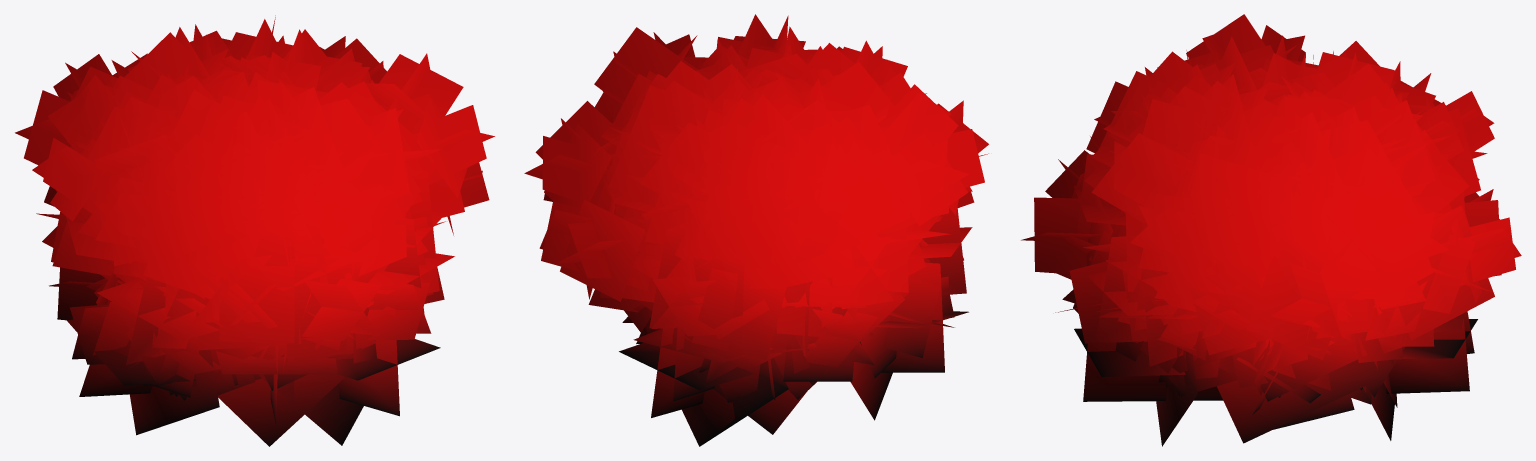
File: bush.glb
3 renders of one model, left to right at view 1: azimuth 30°, elevation 25°; view 2: azimuth 150°, elevation 25°; view 3: azimuth 270°, elevation 25°, orthographic. The views are drawn at different scales.
Parts seen in each view (by area): view 1: Bush_Common; view 2: Bush_Common; view 3: Bush_Common.
Boxes of the visible parts, left/top/right/bottom form: Bush_Common: left=15, top=15, right=494, bottom=446; Bush_Common: left=524, top=14, right=988, bottom=446; Bush_Common: left=1021, top=14, right=1521, bottom=446.
Size of the model in its own units: 1.91 by 1.58 by 1.97.
